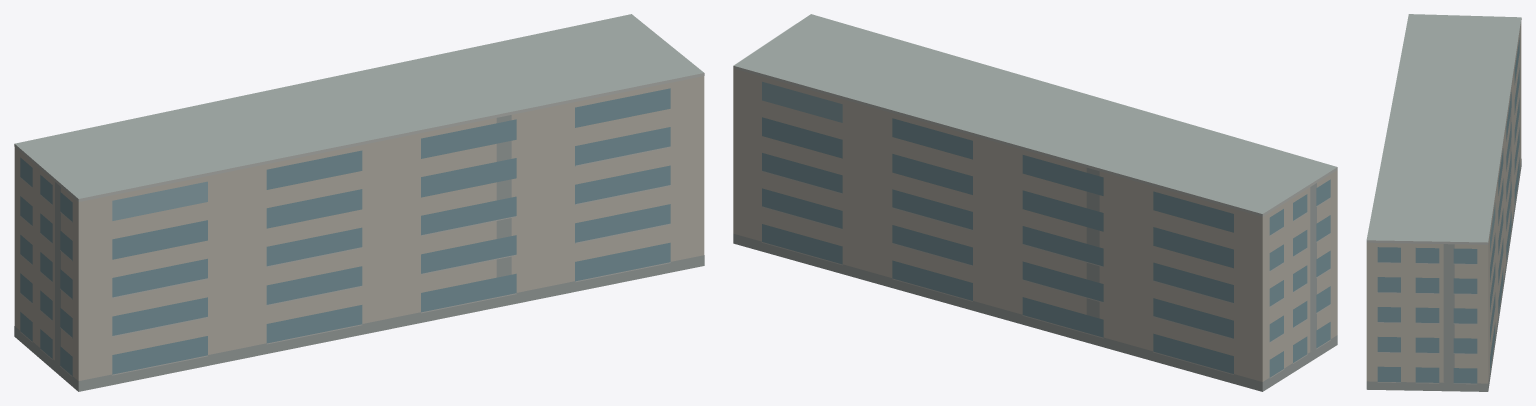
File: residential-b696e17d-09c5-417b-99b7-45f7fcae288c.glb
3 renders of one model, left to right at view 1: azimuth 30°, elevation 25°; view 2: azimuth 150°, elevation 25°; view 3: azimuth 270°, elevation 25°, orthographic. The views are drawn at different scales.
Visible parts, largest first — view 1: residential-b696e17d-09c5-417b-99b7-45f7fcae288c.tmp; view 2: residential-b696e17d-09c5-417b-99b7-45f7fcae288c.tmp; view 3: residential-b696e17d-09c5-417b-99b7-45f7fcae288c.tmp.
Boxes of the visible parts, <box> form: residential-b696e17d-09c5-417b-99b7-45f7fcae288c.tmp: <box>14,14,704,391</box>; residential-b696e17d-09c5-417b-99b7-45f7fcae288c.tmp: <box>733,14,1337,391</box>; residential-b696e17d-09c5-417b-99b7-45f7fcae288c.tmp: <box>1366,14,1521,391</box>.
Bounding box in the file's own units: 50.01 × 15.25 × 14.34.
